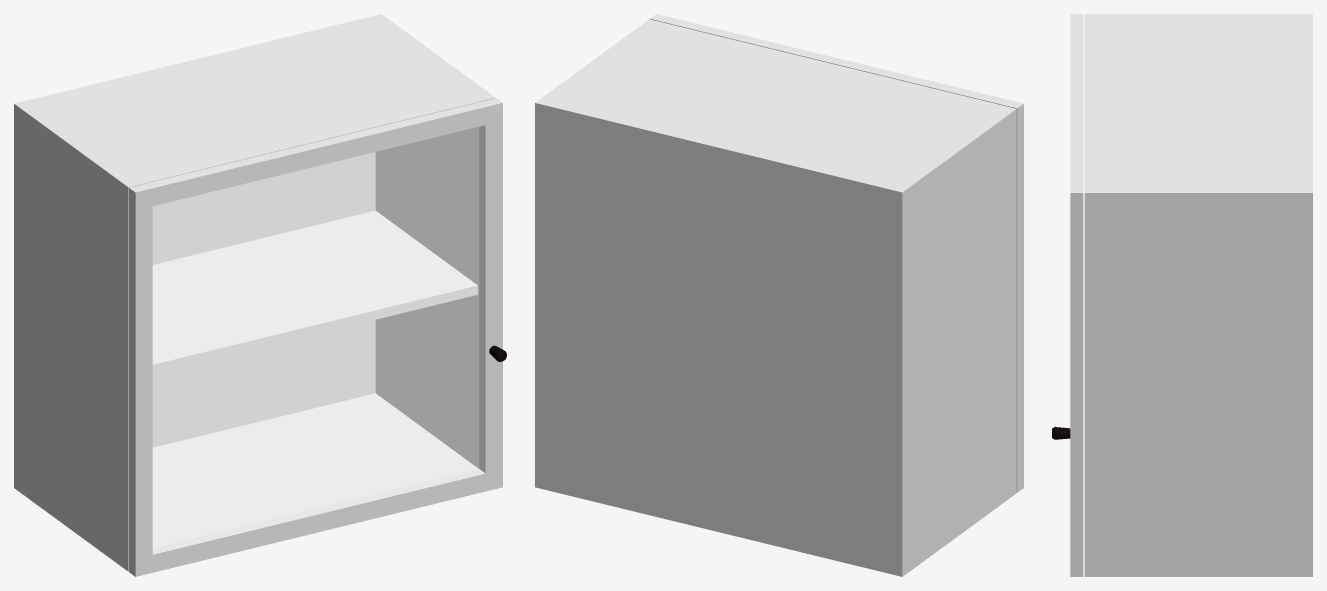
The model's file is cabinet.fbx.
3 views of the same model, side by side, from view 1: azimuth 30°, elevation 25°; view 2: azimuth 150°, elevation 25°; view 3: azimuth 270°, elevation 25° (orthographic).
Parts seen in each view (by area): view 1: Cube; view 2: Cube; view 3: Cube.
Boxes of the visible parts, left/top/right/bottom form: Cube: left=14, top=14, right=506, bottom=576; Cube: left=535, top=14, right=1023, bottom=576; Cube: left=1052, top=14, right=1312, bottom=576.
Size of the model in its own units: 200 by 200 by 123.
